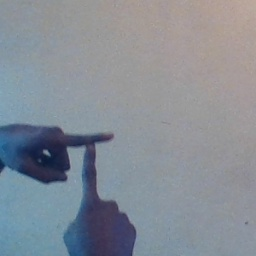T: (39, 118, 131, 232)
